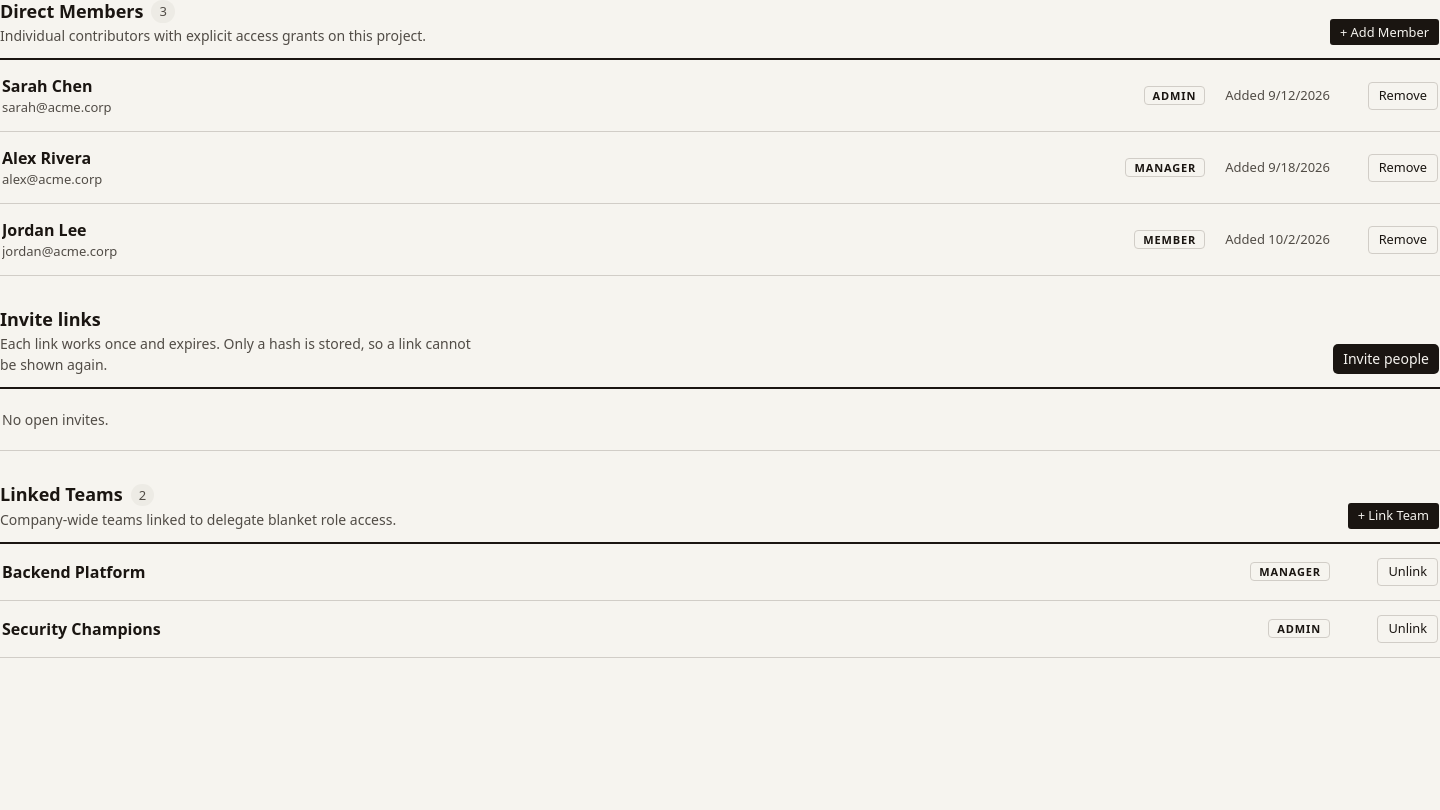
Scenario: ProjectAccess › does not submit an address that is not an email
Click the button "+ Add Member" at (1384, 32), box [1329,18,1439,46]
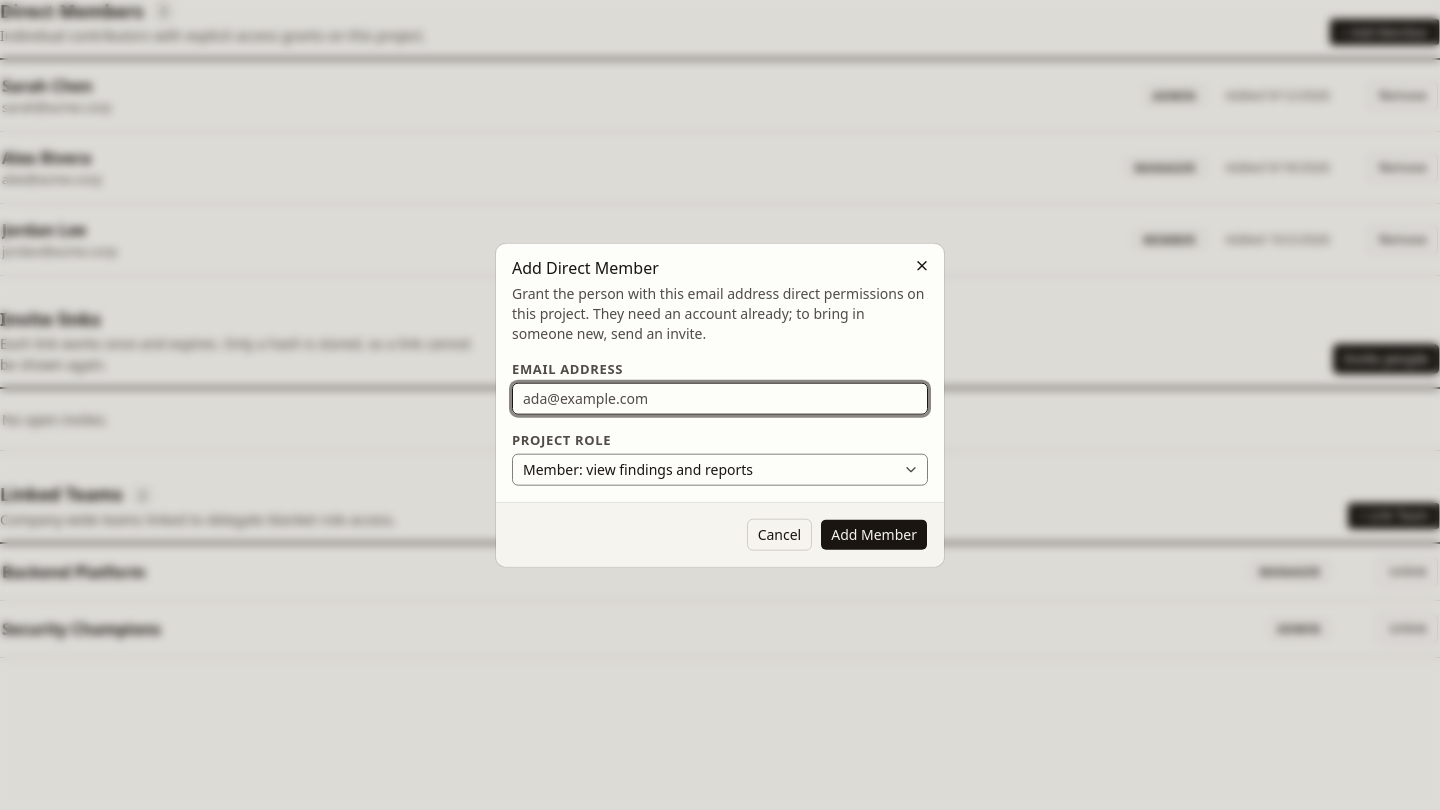
Type "newbie@acme" into the dropdown labelled "Email address" at (720, 398), box [512,382,928,414]
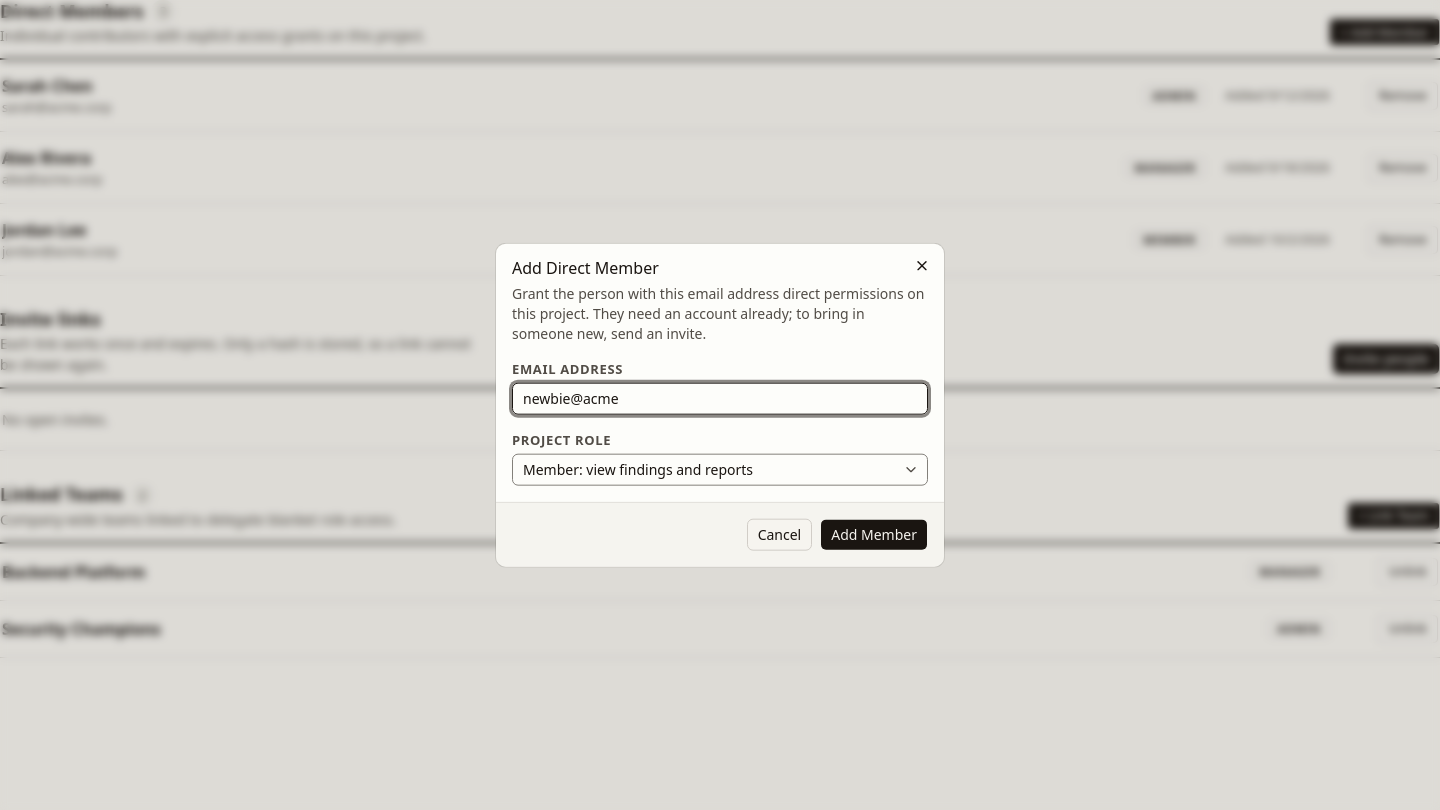
Click the button "Add Member" at (874, 534), box [820,518,928,550]
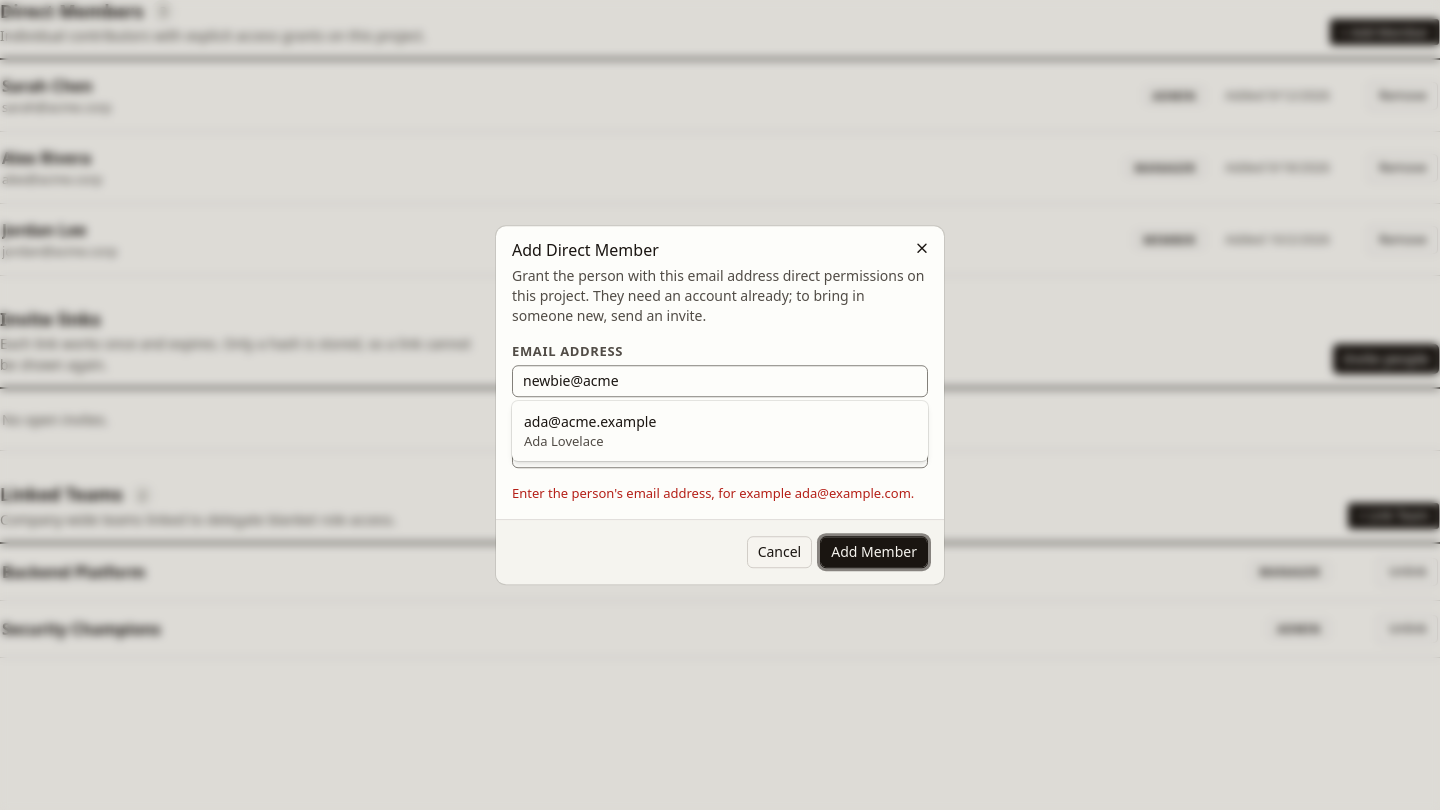
Expected: the text "Enter the person's email address" is shown, [512,484,914,502]
